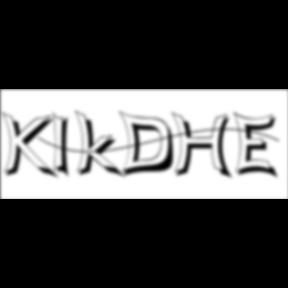D: (119, 110, 182, 180)
E: (234, 110, 282, 182)
H: (171, 112, 237, 182)
I: (53, 110, 77, 182)
K: (2, 110, 60, 182)
k: (74, 108, 128, 181)
